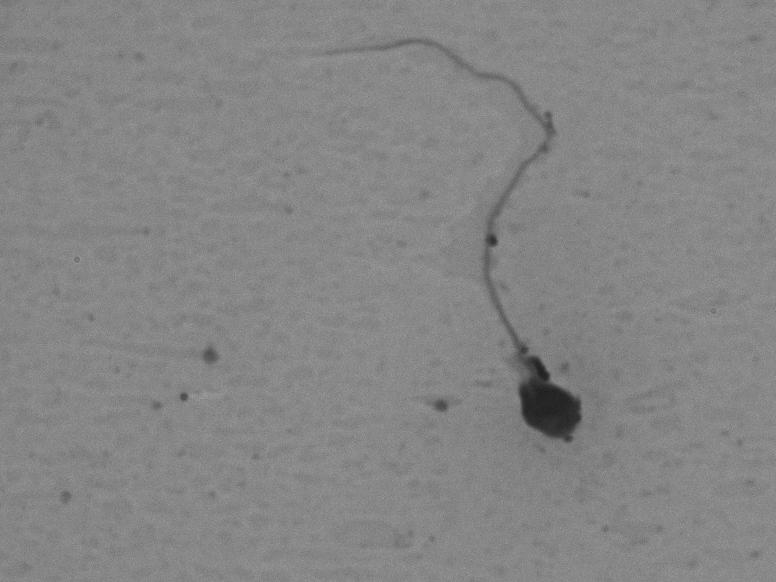Abnormal: (263, 22, 637, 462)
